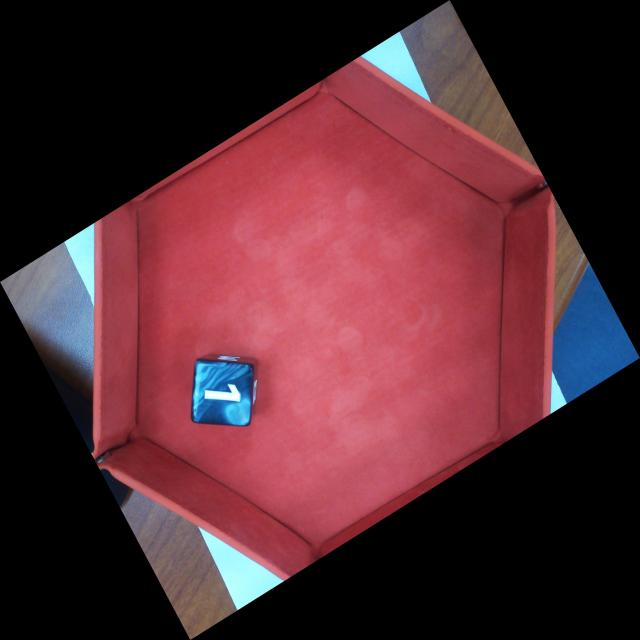dice: (192, 360, 253, 425)
